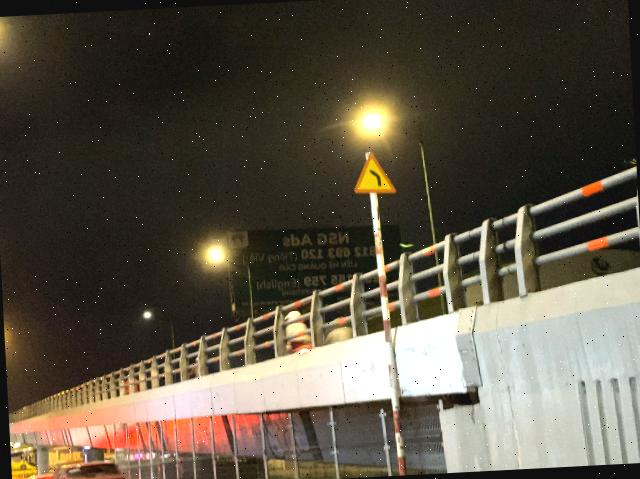cho-ngoat-nguy-hiem-ben-phai: (351, 148, 397, 195)
